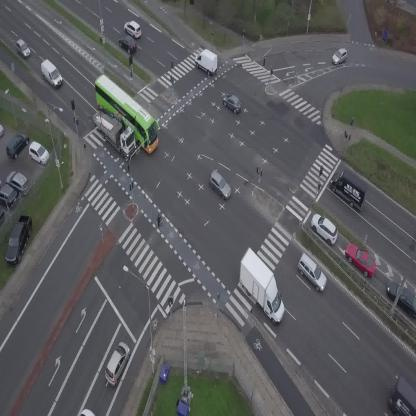bicycle: (154, 214, 165, 232)
bus: (82, 71, 170, 156)
car: (340, 238, 382, 281), (292, 252, 333, 293), (100, 339, 134, 387), (306, 210, 343, 247), (204, 170, 236, 201), (219, 91, 246, 115), (116, 32, 140, 58), (121, 17, 146, 41), (12, 37, 33, 61), (329, 46, 351, 67)
lorry: (225, 245, 300, 327), (85, 102, 145, 161), (324, 166, 375, 213), (190, 44, 224, 78), (390, 374, 416, 416), (36, 58, 66, 88)
